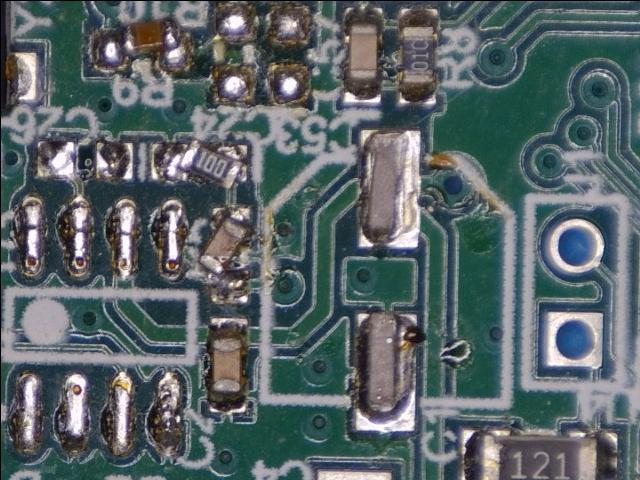Incorrect_installation: (87, 15, 190, 77), (197, 206, 255, 305), (154, 138, 250, 191)
